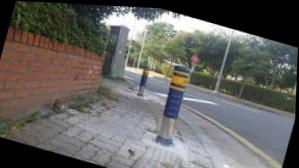Animal: (147, 60, 204, 152), (123, 58, 154, 118)
